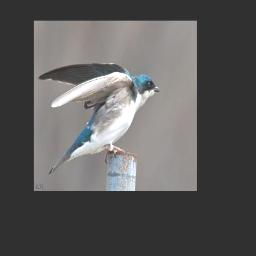Swallow: (38, 60, 162, 177)
